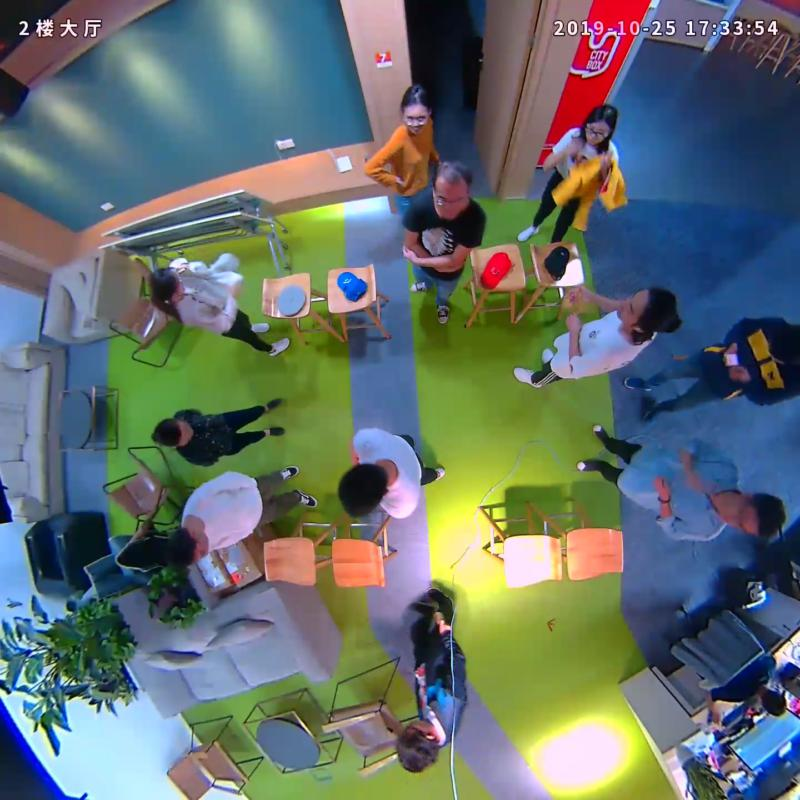head: (717, 490, 787, 539), (338, 464, 389, 519), (615, 287, 677, 332), (394, 716, 441, 772), (431, 160, 473, 215), (166, 526, 210, 566), (401, 83, 431, 136), (584, 105, 618, 145), (149, 265, 185, 301), (153, 418, 194, 446)
